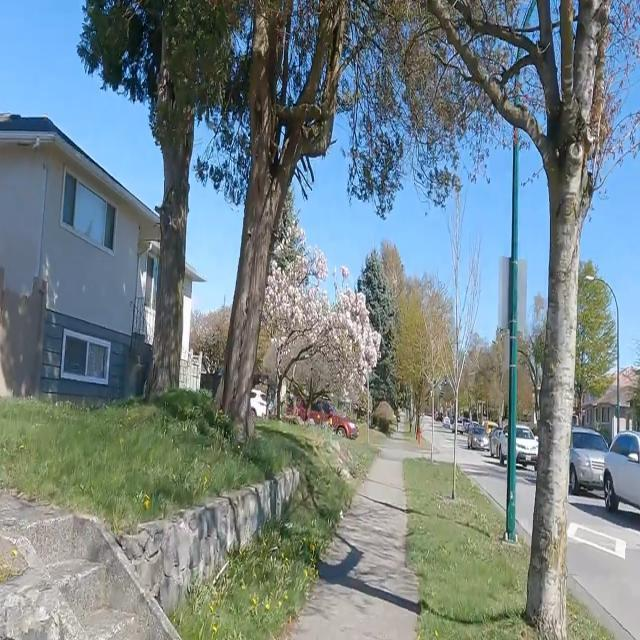Automobile: (602, 433, 639, 512), (569, 428, 608, 494), (306, 398, 357, 438), (516, 425, 537, 464), (490, 420, 507, 464), (467, 423, 487, 448), (250, 390, 265, 417)
Road: (567, 490, 639, 639), (460, 448, 505, 509), (518, 467, 535, 535)
Sidewalk: (290, 439, 418, 639)
